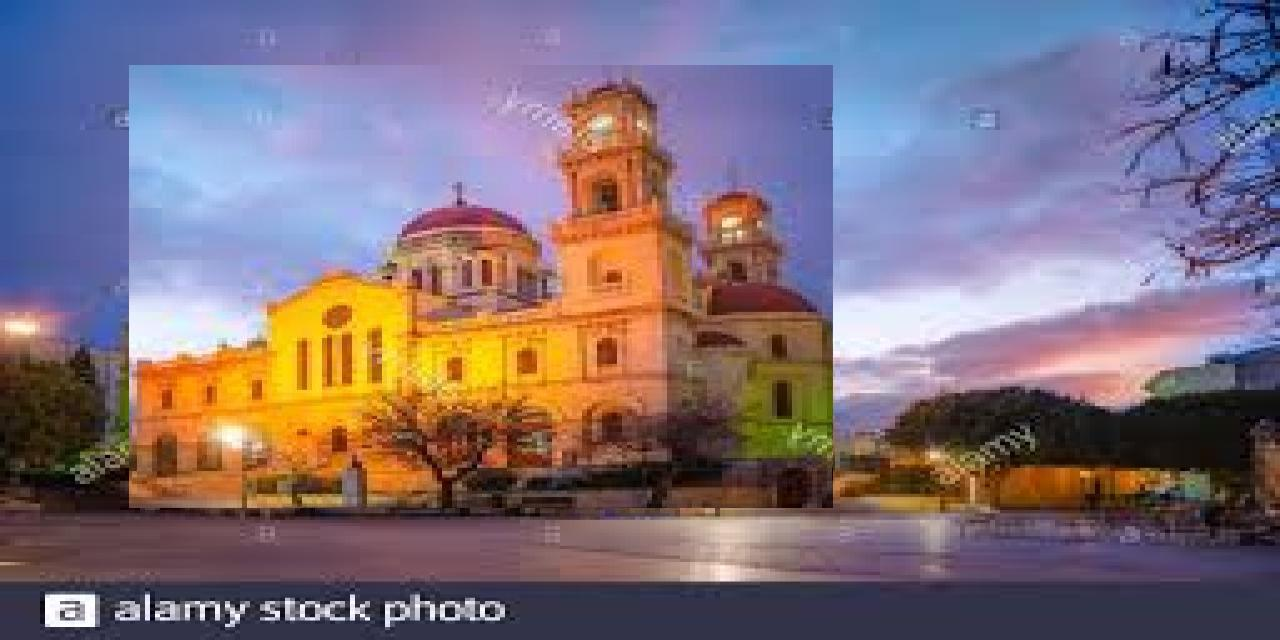Agios Minas: (130, 66, 834, 509)
